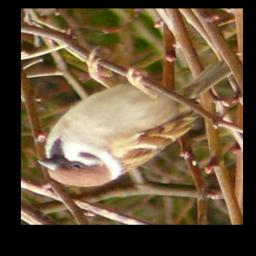Sparrow: (35, 46, 233, 188)
